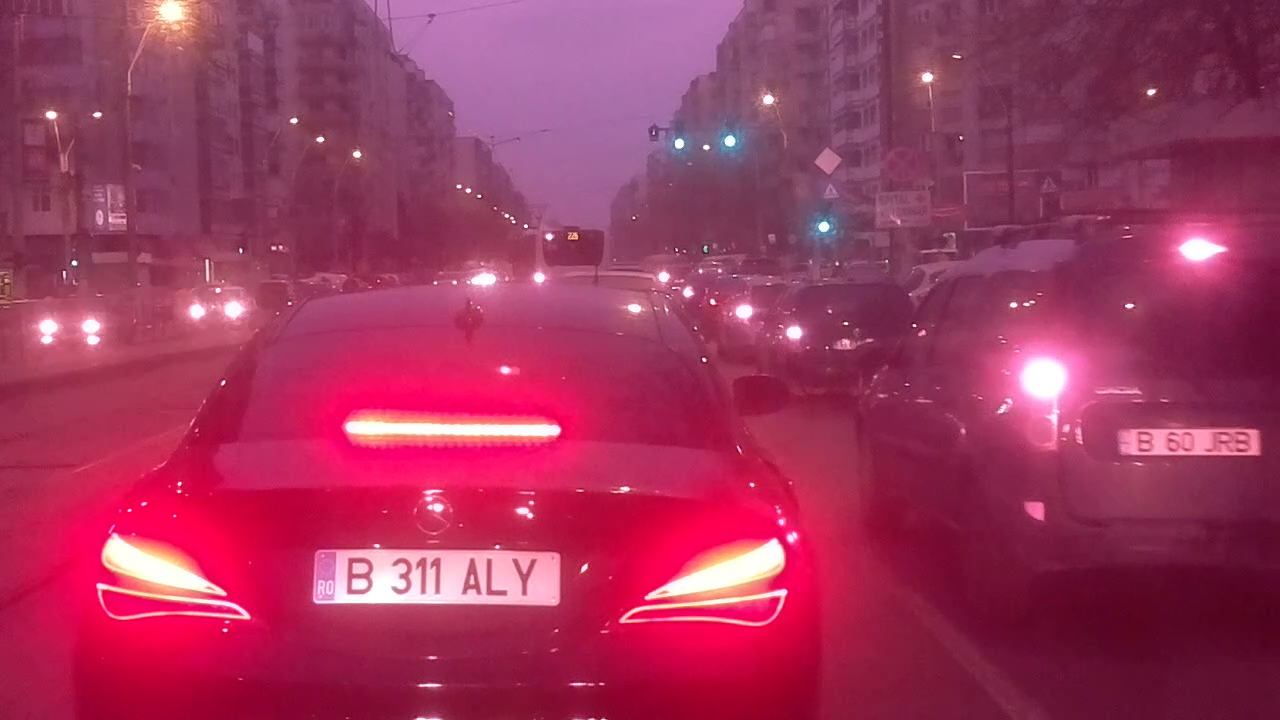license-plate: (313, 545, 560, 608), (1116, 427, 1264, 460)
